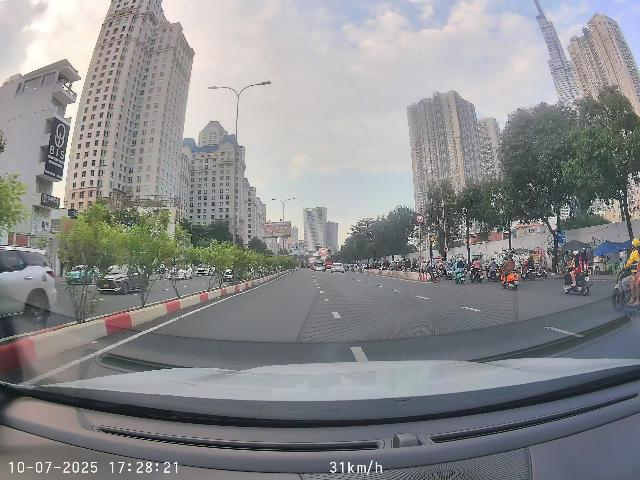127-toc-do-toi-da-60: (444, 246, 449, 252)
127-toc-do-toi-da-70: (415, 214, 424, 224)
